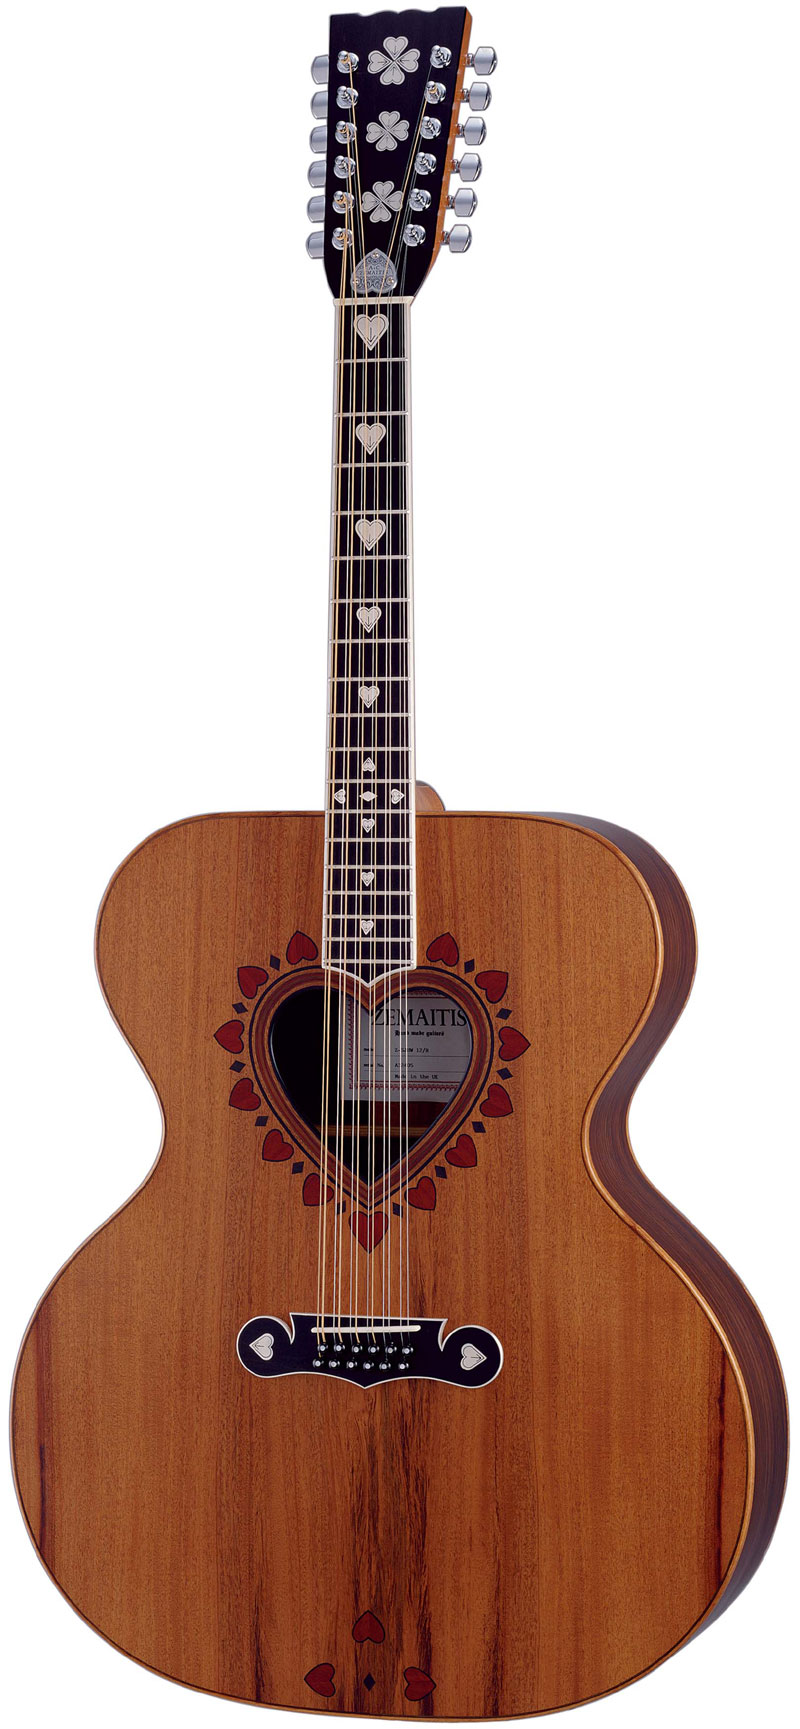guitar: (6, 4, 777, 1729)
